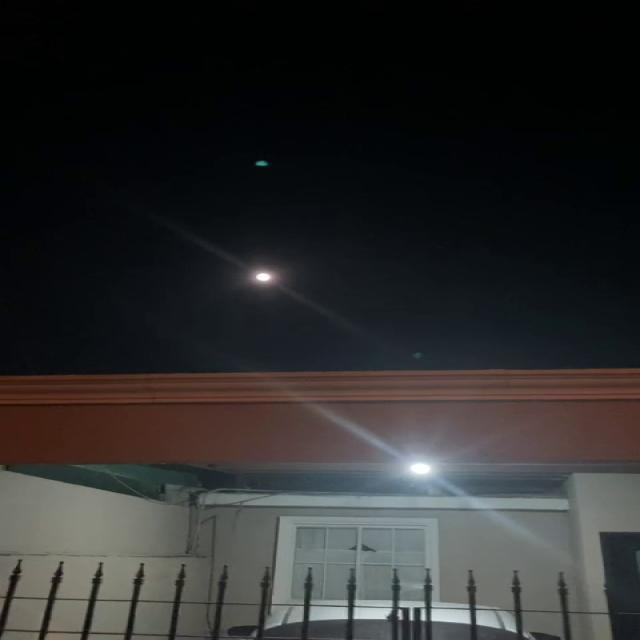moon: (245, 268, 287, 292)
